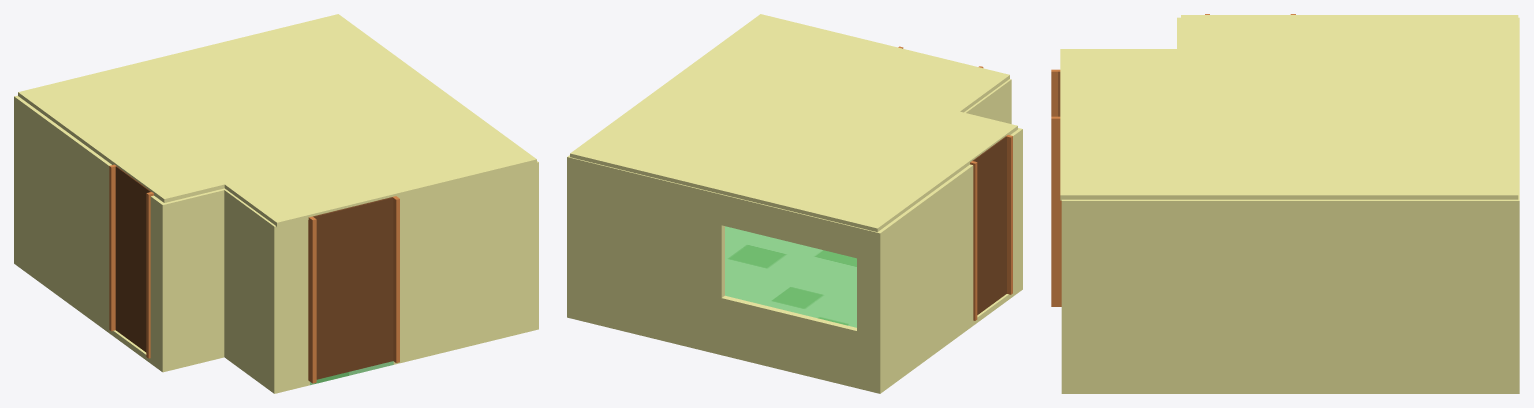
Rendered from MP_Environ_Bedroom_DreamScene.fbx.
3 renders of one model, left to right at view 1: azimuth 30°, elevation 25°; view 2: azimuth 150°, elevation 25°; view 3: azimuth 270°, elevation 25°, orthographic. The views are drawn at different scales.
Visible parts, largest first — view 1: DreamScene_Ceiling, DreamScene, DreamScene_FrontWall; view 2: DreamScene, DreamScene_Ceiling; view 3: DreamScene, DreamScene_Ceiling, DreamScene_FrontWall.
Part boxes in pixels (x1,y1,x2,y2): DreamScene_Ceiling: (18,14,536,227); DreamScene: (14,95,538,393); DreamScene_FrontWall: (280,165,532,386); DreamScene: (567,79,1022,393); DreamScene_Ceiling: (570,14,1017,231); DreamScene: (1061,14,1519,393); DreamScene_Ceiling: (1060,15,1518,200); DreamScene_FrontWall: (1051,69,1061,306).
Size of the model in its own units: 411 by 205 by 440.
Materials: 4 (1 with a texture image).
